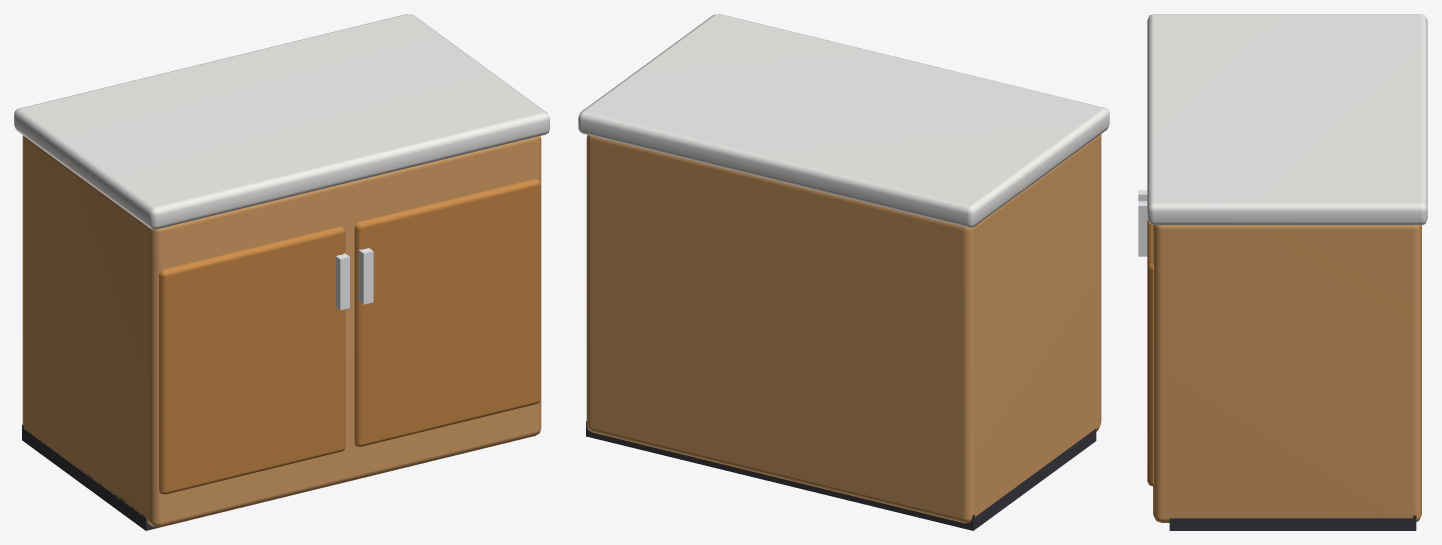
The model's file is KitchenCounter.fbx.
3 views of the same model, side by side, from view 1: azimuth 30°, elevation 25°; view 2: azimuth 150°, elevation 25°; view 3: azimuth 270°, elevation 25° (orthographic).
Visible parts, largest first — view 1: KitchenCounter; view 2: KitchenCounter; view 3: KitchenCounter.
Boxes of the visible parts, left/top/right/bottom form: KitchenCounter: left=14, top=14, right=549, bottom=530; KitchenCounter: left=578, top=14, right=1109, bottom=530; KitchenCounter: left=1138, top=14, right=1427, bottom=530.
Bounding box in the file's own units: 4.1 × 3.22 × 2.58.
1 material, 1 textured.
